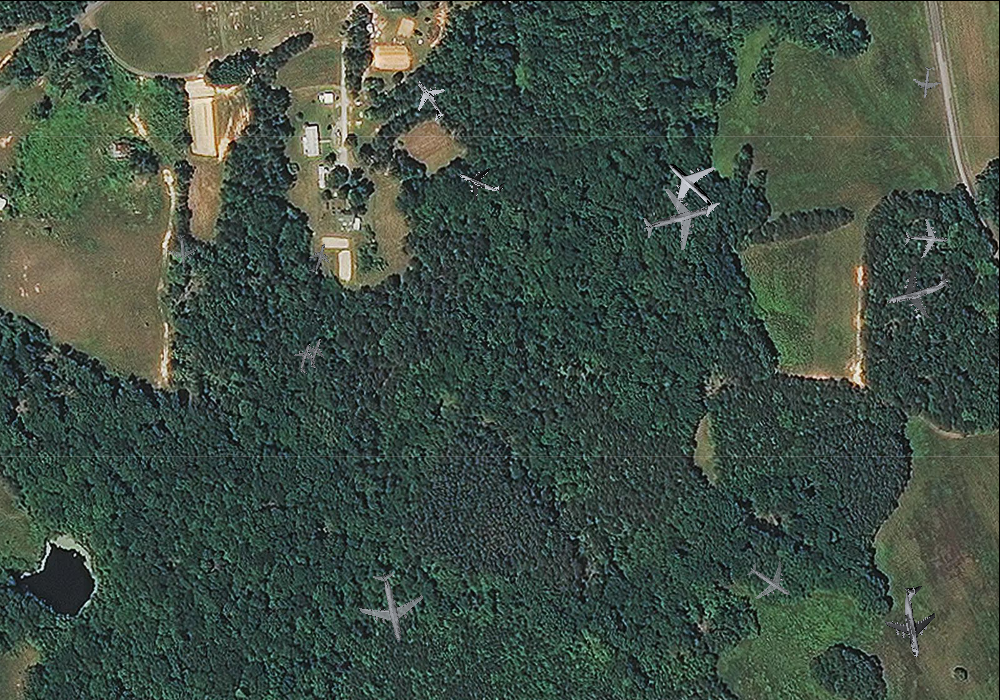plane: (647, 142, 737, 231), (635, 178, 720, 259), (351, 565, 431, 648), (879, 252, 958, 329), (877, 581, 951, 662), (738, 550, 802, 613), (399, 69, 458, 128), (451, 153, 510, 210), (903, 216, 950, 261), (298, 334, 333, 372), (288, 339, 323, 376), (164, 232, 199, 269), (301, 239, 335, 276), (910, 64, 944, 99)
